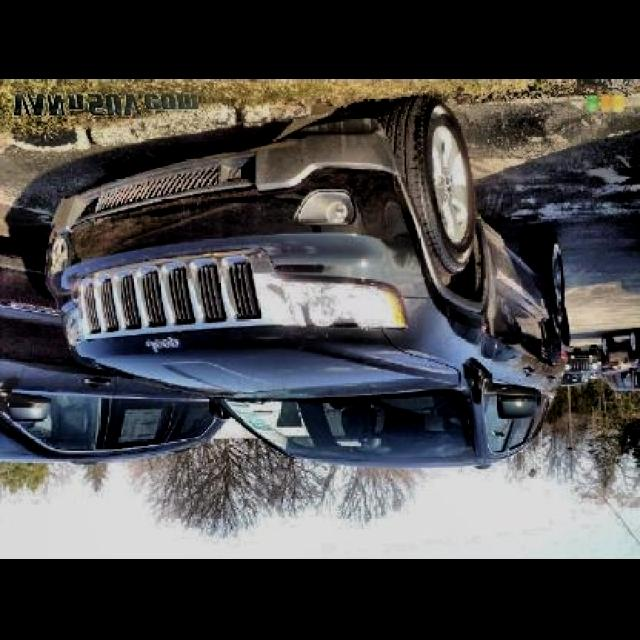black: (59, 101, 574, 477)
